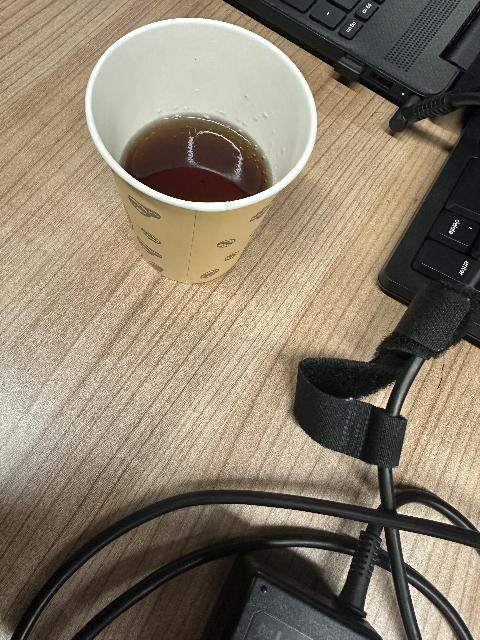Kagit: (84, 16, 319, 287)
